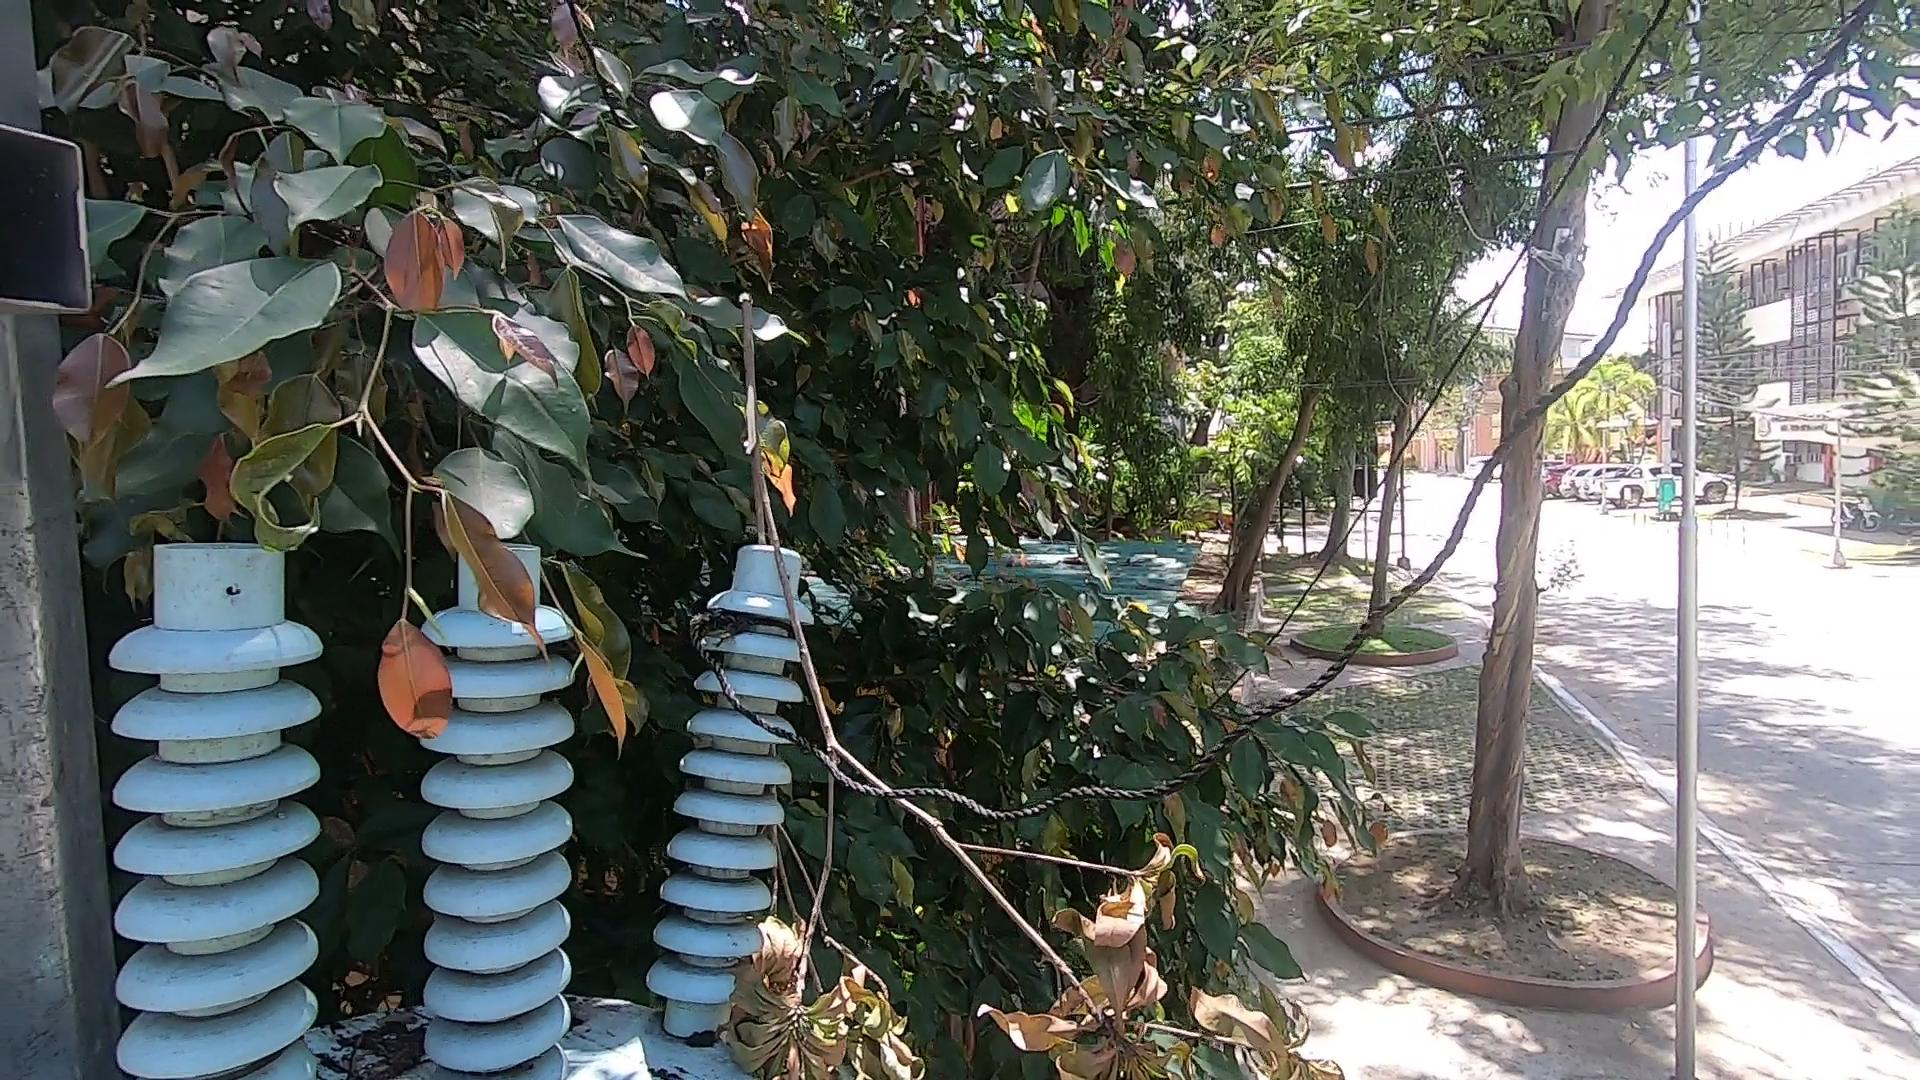branch with leaves: (720, 266, 1346, 1080)
